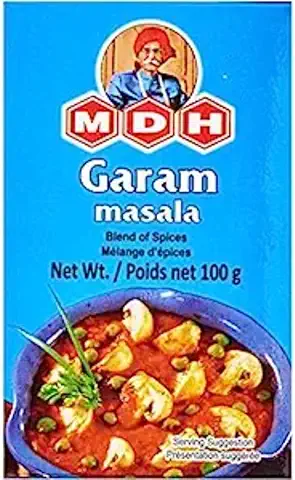Garamasala: (2, 1, 292, 478)
